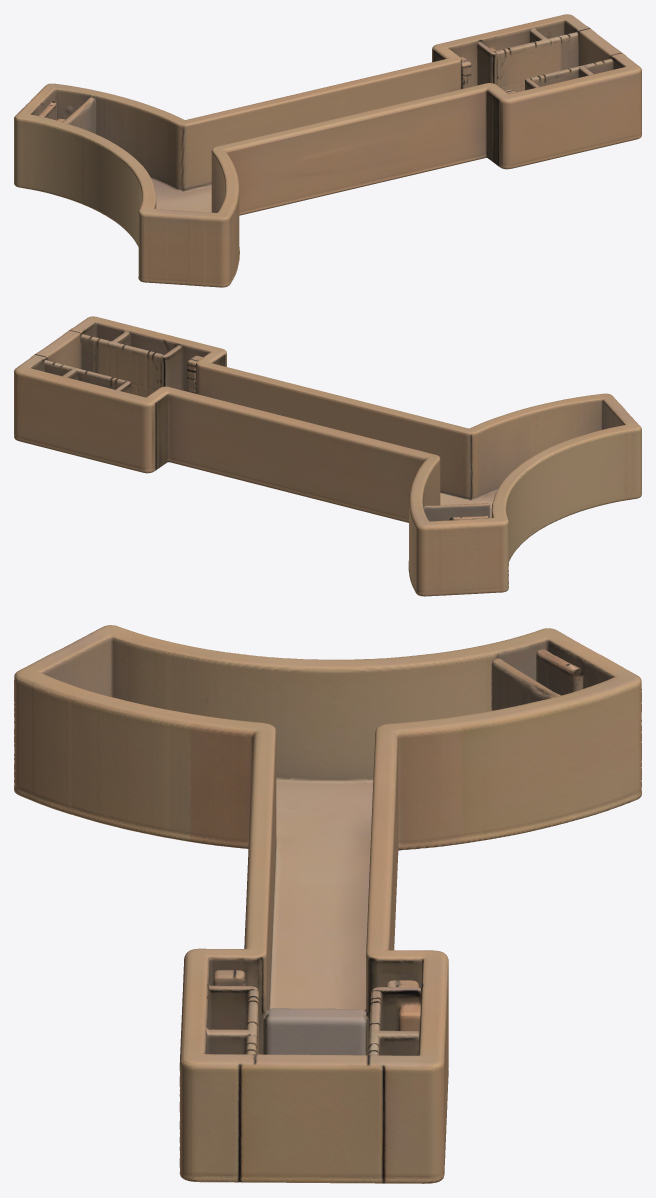
The model's file is skynoe01-2.glb.
3 views of the same model, one above another, from view 1: azimuth 30°, elevation 25°; view 2: azimuth 150°, elevation 25°; view 3: azimuth 270°, elevation 25° (orthographic). The views are drawn at different scales.
Visible parts, largest first — view 1: tripo_node_f18ced61-7466-43a2-9946-8c14f903b214; view 2: tripo_node_f18ced61-7466-43a2-9946-8c14f903b214; view 3: tripo_node_f18ced61-7466-43a2-9946-8c14f903b214.
Part boxes in pixels (x1,y1,x2,y2): tripo_node_f18ced61-7466-43a2-9946-8c14f903b214: (14, 14, 641, 287); tripo_node_f18ced61-7466-43a2-9946-8c14f903b214: (14, 316, 641, 596); tripo_node_f18ced61-7466-43a2-9946-8c14f903b214: (14, 625, 641, 1183).
Size of the model in its own units: 1.01 by 0.1271 by 0.6035.
1 material, 1 textured.
